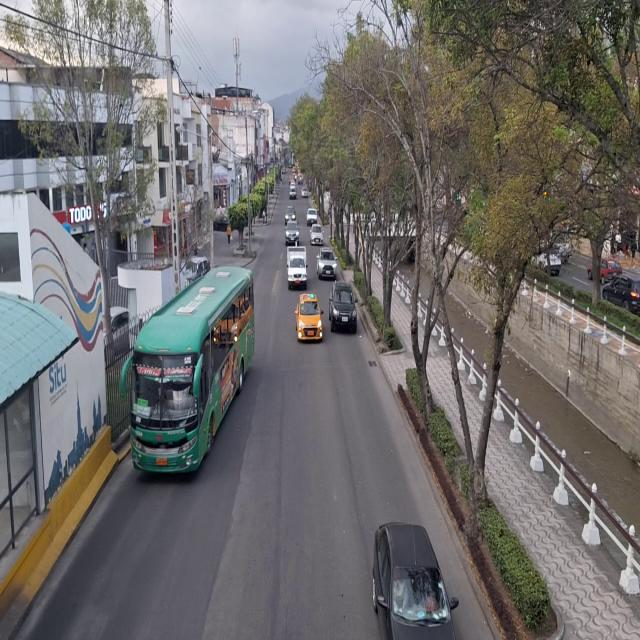BUS: (124, 272, 253, 485)
CMT: (284, 240, 310, 291)
